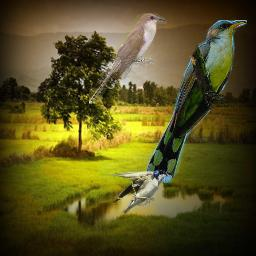Cuckoo: (147, 20, 247, 183), (89, 13, 167, 104)
Swallow: (109, 169, 169, 215)
